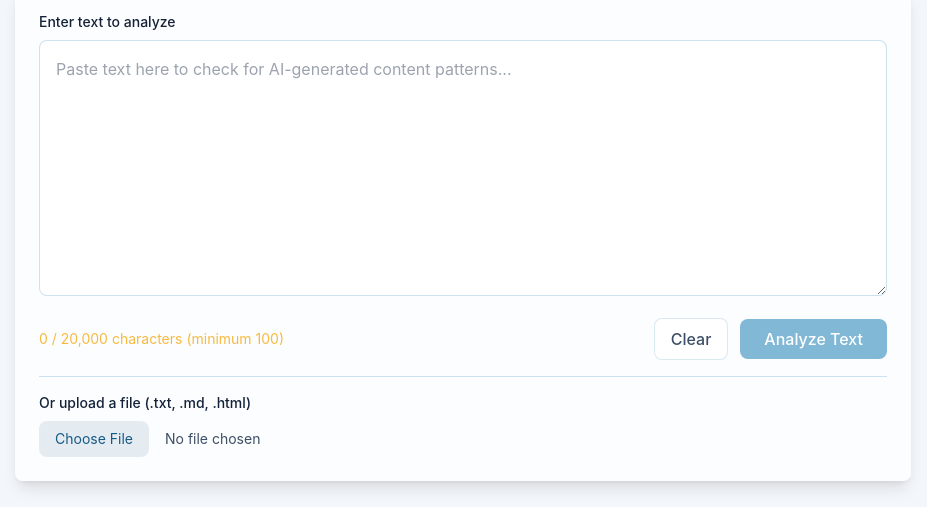
Test case: TextInput › enables clear button when text exists and clears input on click
The width and height of the screenshot is (927, 507).
Expected: the button "Clear" is disabled, [654,318,728,360]
Type "Sample text" into the text box labelled "Enter text to analyze".
click(463, 168); type("Sample text")  # box [39,40,887,296]
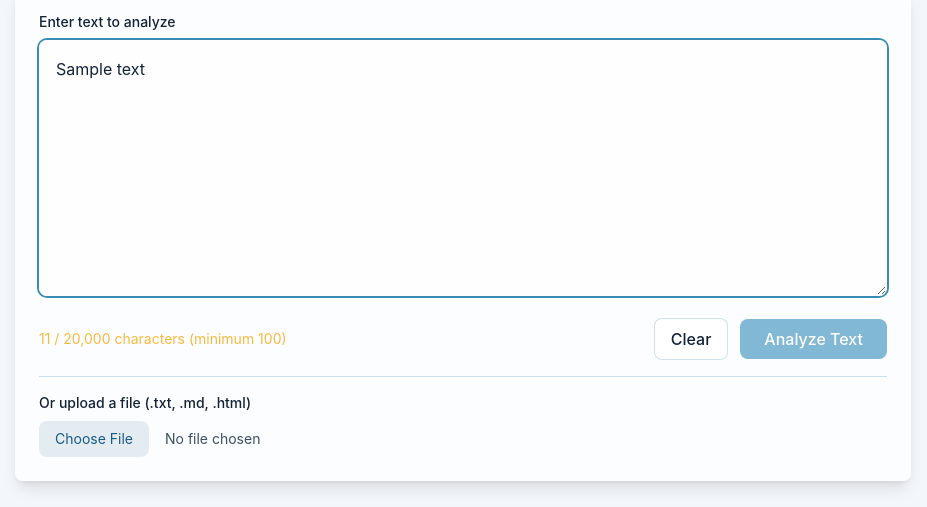
Expected: the button "Clear" is enabled
Click the button "Clear".
click(691, 339)  # box [654,318,728,360]
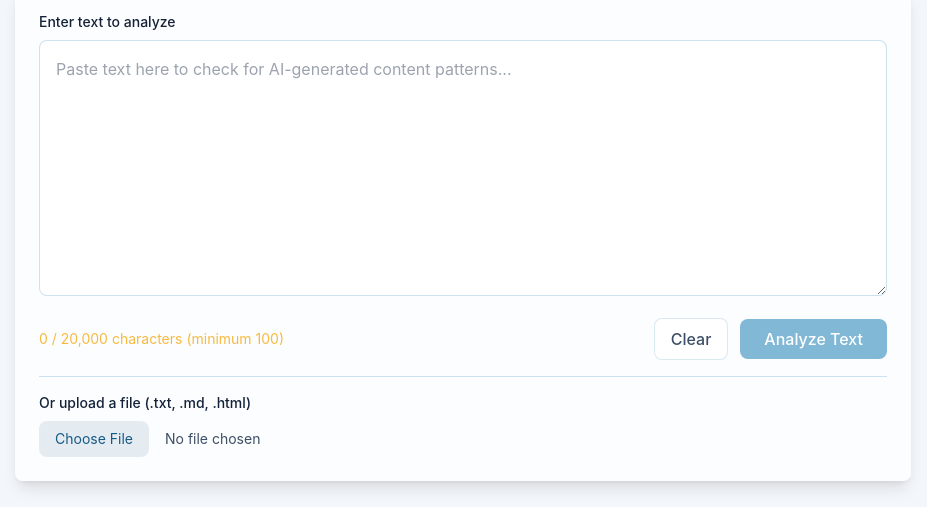
Expected: the button "Clear" is disabled, [654,318,728,360]
Expected: the text box labelled "Enter text to analyze" is empty, [39,40,887,296]
